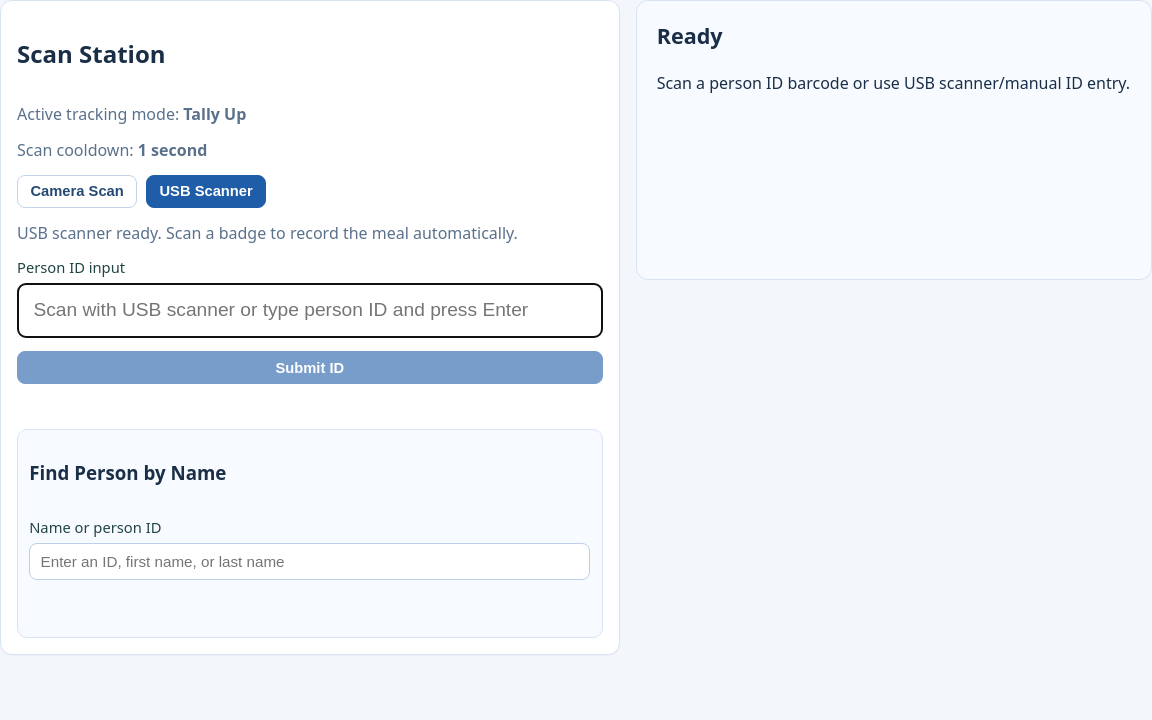
it: Scan station › shows a real failure and allows the next scan
Step 1. Type "nope" into the field labelled "Person ID input" → [310, 310], box [17,283,603,338]
Then press Enter
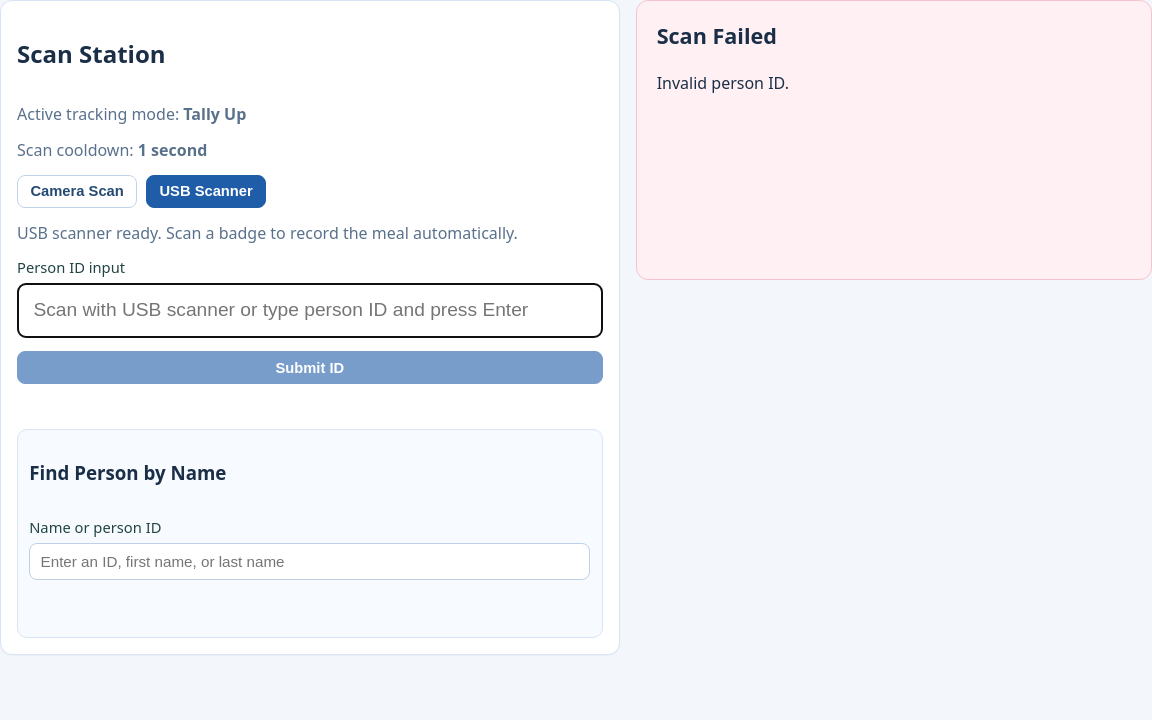
Now the heading "Scan Failed" is shown, box [657,21,777,50]
Now the text "Invalid person ID." is shown, box [657,72,789,94]
